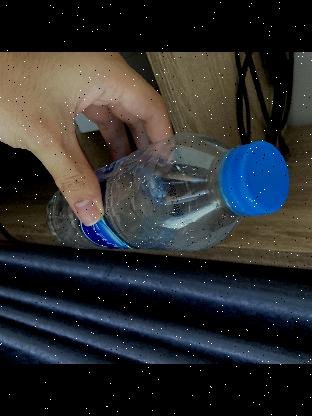Plastic Bottle: (42, 134, 292, 256)
